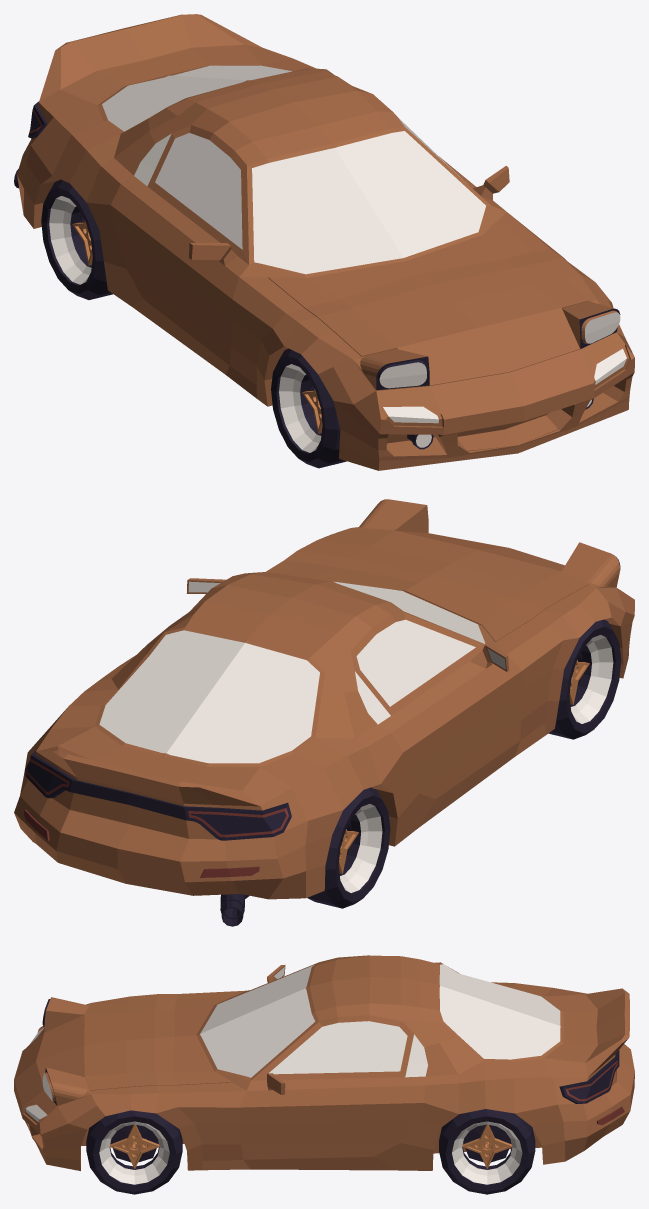
File: car2.fbx
3 views of the same model, one above another, from view 1: azimuth 30°, elevation 25°; view 2: azimuth 150°, elevation 25°; view 3: azimuth 270°, elevation 25° (orthographic). The views are drawn at different scales.
Visible parts, largest first — view 1: car 13; view 2: car 13; view 3: car 13.
Boxes of the visible parts, <box> form: car 13: <box>14,14,634,470</box>; car 13: <box>14,499,634,926</box>; car 13: <box>14,955,634,1194</box>.
Bounding box in the file's own units: 287 × 185 × 630.
